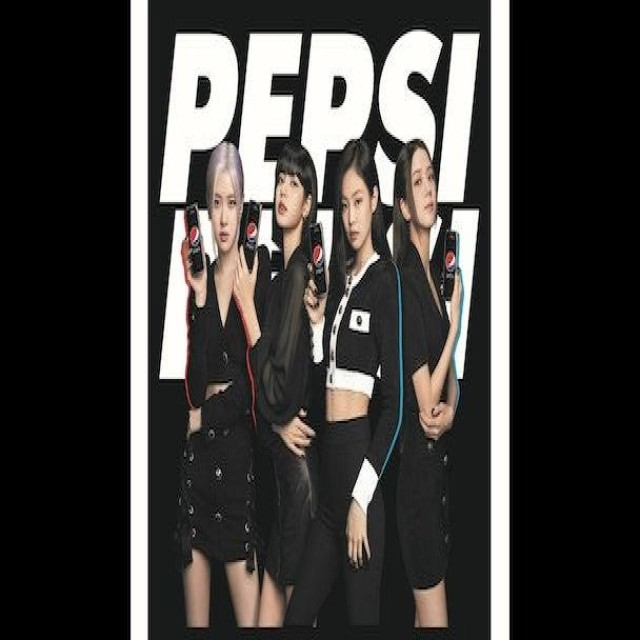pepsi: (187, 220, 202, 256), (245, 219, 258, 250), (444, 248, 458, 276), (312, 243, 324, 272)
